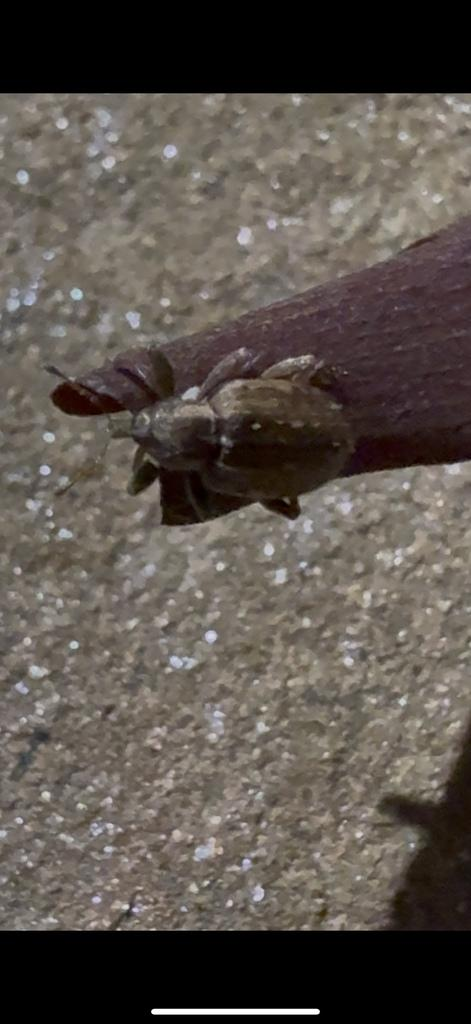weevils: (0, 281, 404, 576)
